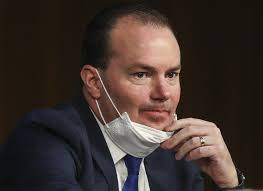mask_weared_incorrect: (81, 31, 182, 157)
